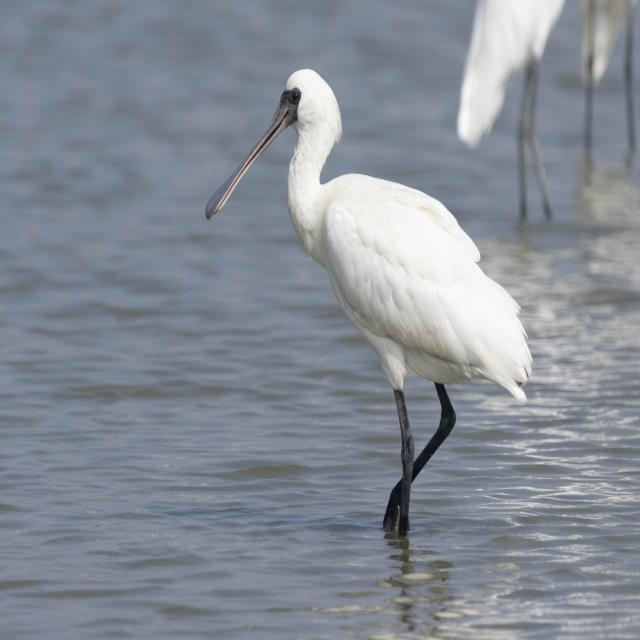Black-faced spoonbill: (207, 70, 531, 535)
